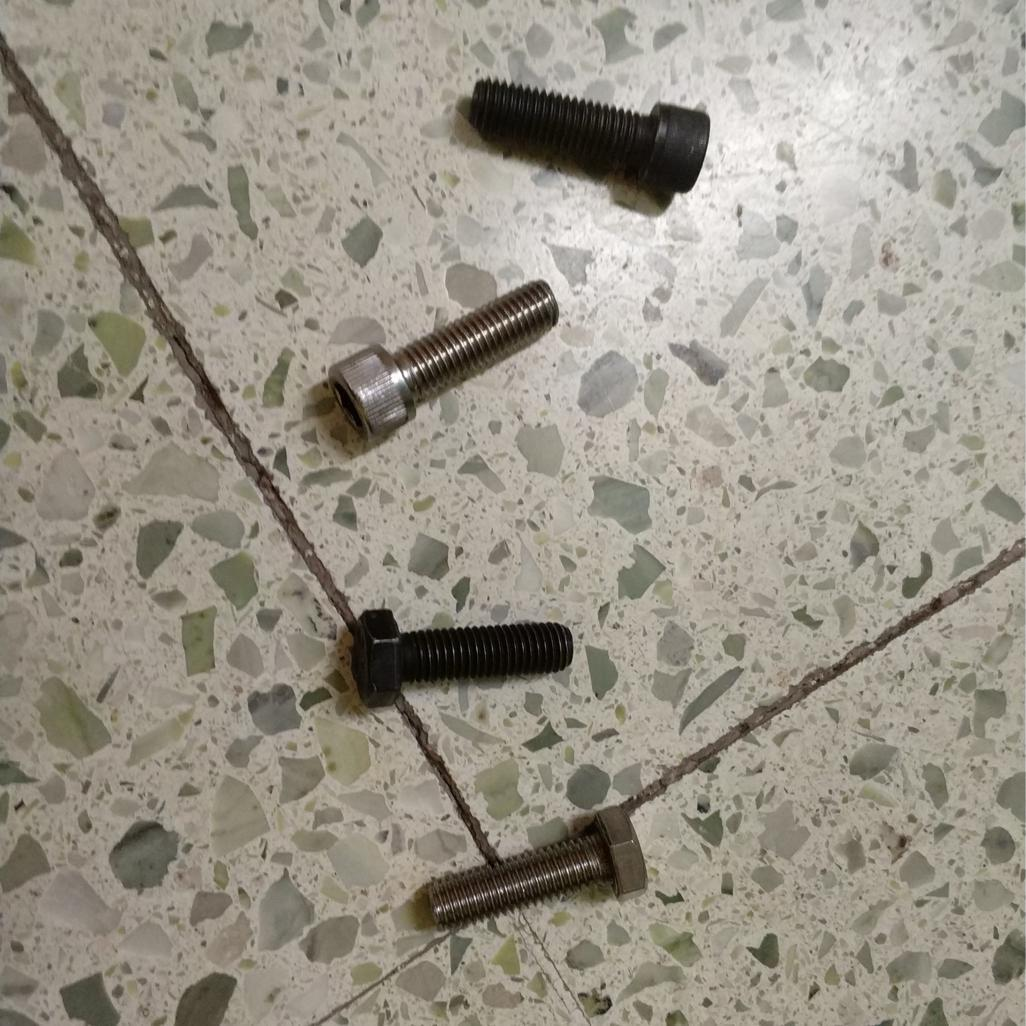screwtype1black: (461, 58, 713, 210)
screwtype1silver: (321, 281, 565, 451)
screwtype2black: (345, 583, 585, 727)
screwtype2silver: (414, 806, 649, 934)
